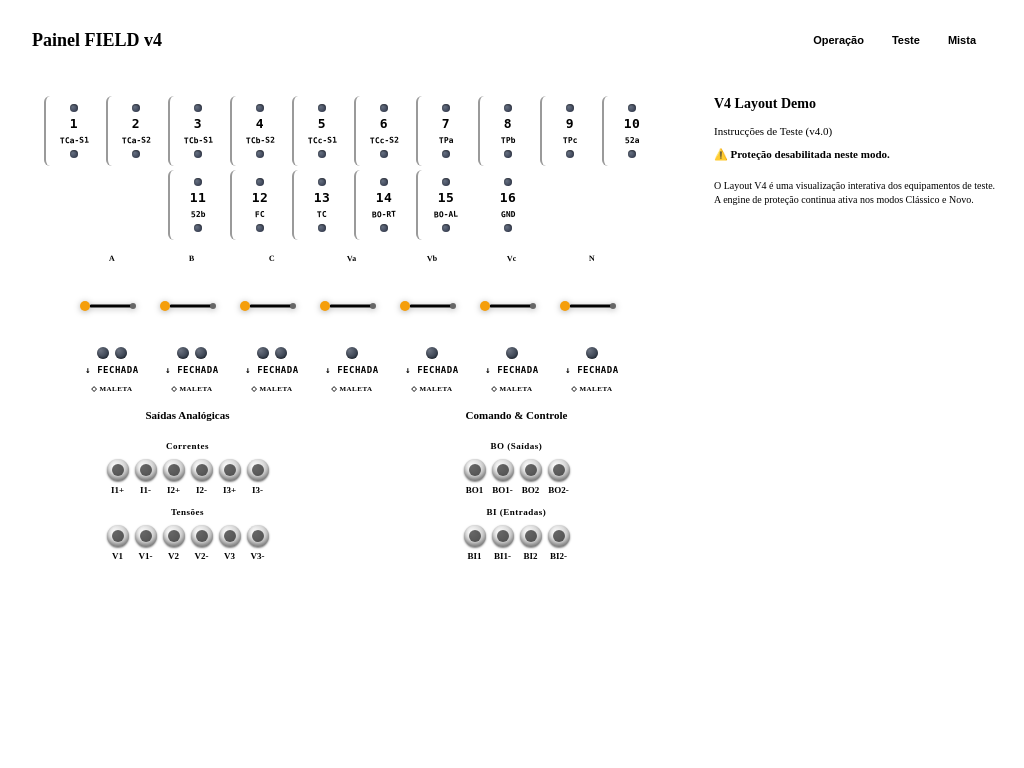
Layout Novo v4 — Complete E2E Tests › Modo toggle — Operação/Teste/Mista › Modo "Teste" abre todas as alavancas
The image size is (1024, 768).
What coordinates should you click on to do the following:
click the button with class "mode-btn" showing "Teste"
I would click on:
 (906, 40)
Its box is [880,28,932,52].
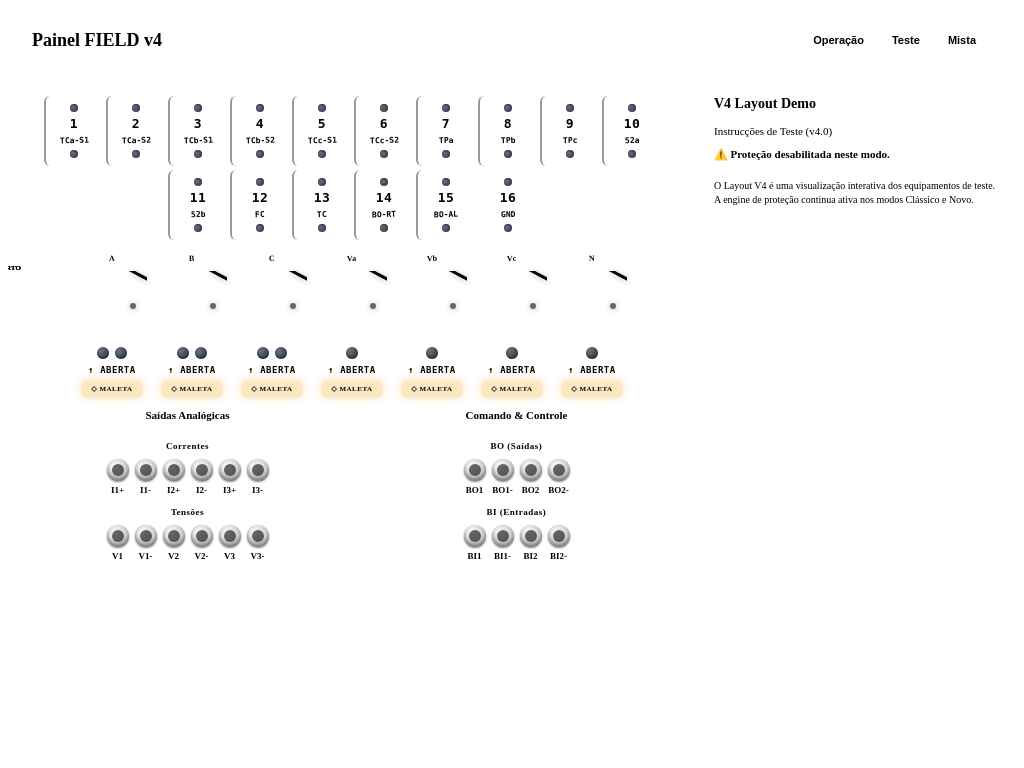
Now the text with class "lever-state" shows "ABERTA", box [88,365,136,375]
